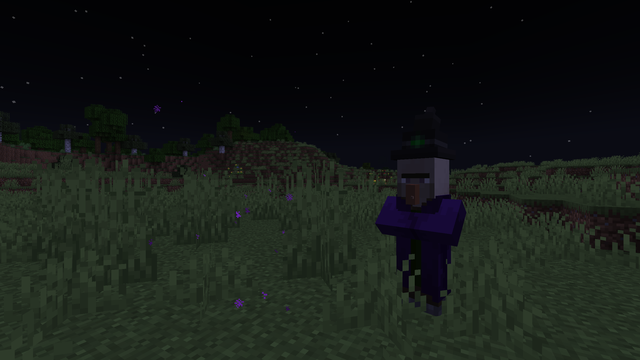sorcieres: (393, 150, 450, 324)
